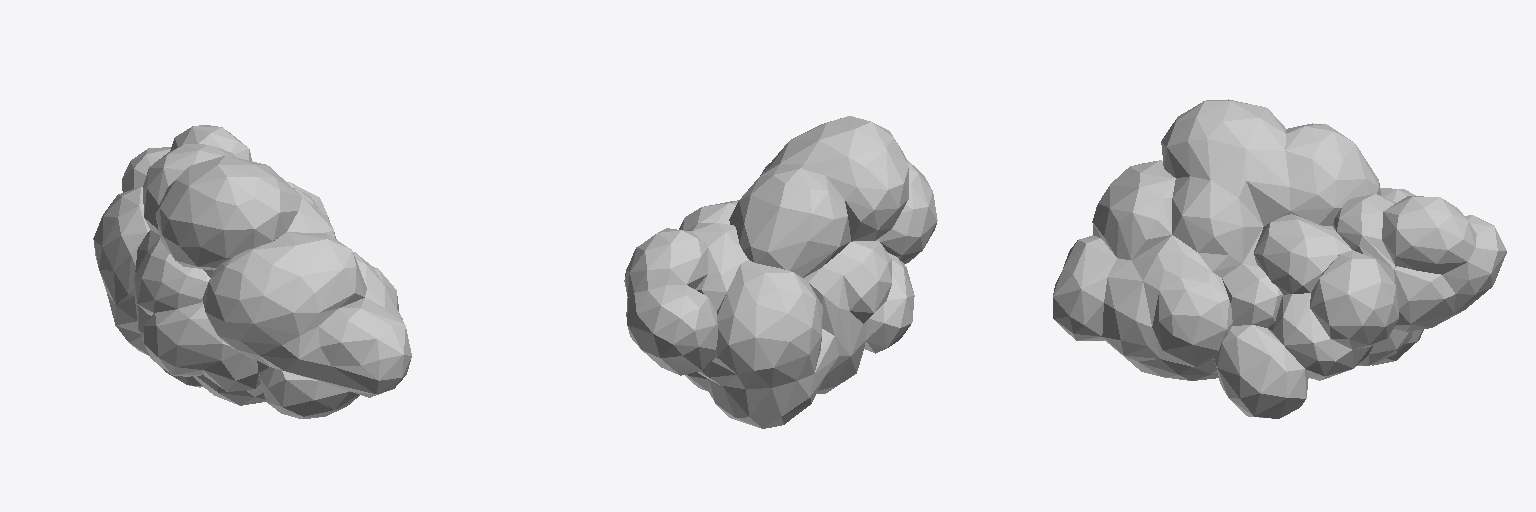
File: cloud-1-low.OBJ
3 views of the same model, side by side, from view 1: azimuth 30°, elevation 25°; view 2: azimuth 150°, elevation 25°; view 3: azimuth 270°, elevation 25° (orthographic).
Parts seen in each view (by area): view 1: Group50369; view 2: Group50369; view 3: Group50369.
Part boxes in pixels (bbox=[...]): Group50369: bbox=[93, 125, 411, 418]; Group50369: bbox=[624, 116, 937, 428]; Group50369: bbox=[1053, 99, 1506, 418].
Size of the model in its own units: 5.41 by 5.28 by 8.73.